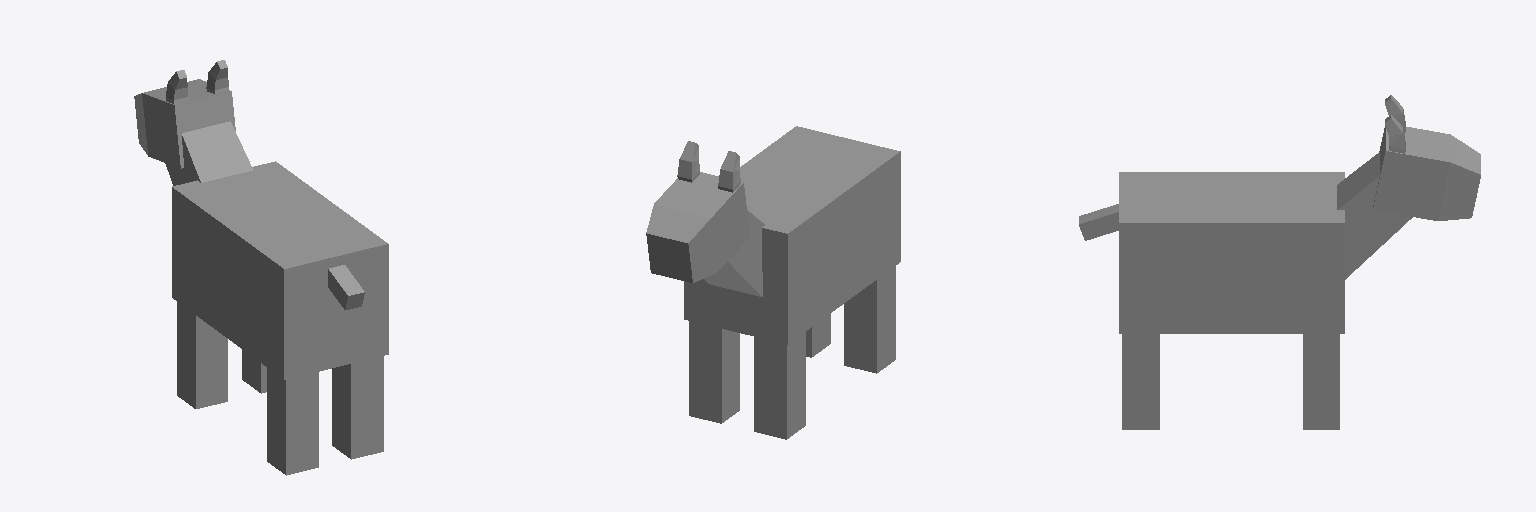
The model's file is goat.obj.
3 views of the same model, side by side, from view 1: azimuth 30°, elevation 25°; view 2: azimuth 150°, elevation 25°; view 3: azimuth 270°, elevation 25° (orthographic).
Visible parts, largest first — view 1: Cube.001_Cube.002; view 2: Cube.001_Cube.002; view 3: Cube.001_Cube.002.
Boxes of the visible parts, <box> form: Cube.001_Cube.002: <box>134,60,388,475</box>; Cube.001_Cube.002: <box>646,126,900,439</box>; Cube.001_Cube.002: <box>1079,95,1480,429</box>.
Bounding box in the file's own units: 1.6 × 4.4 × 5.36.